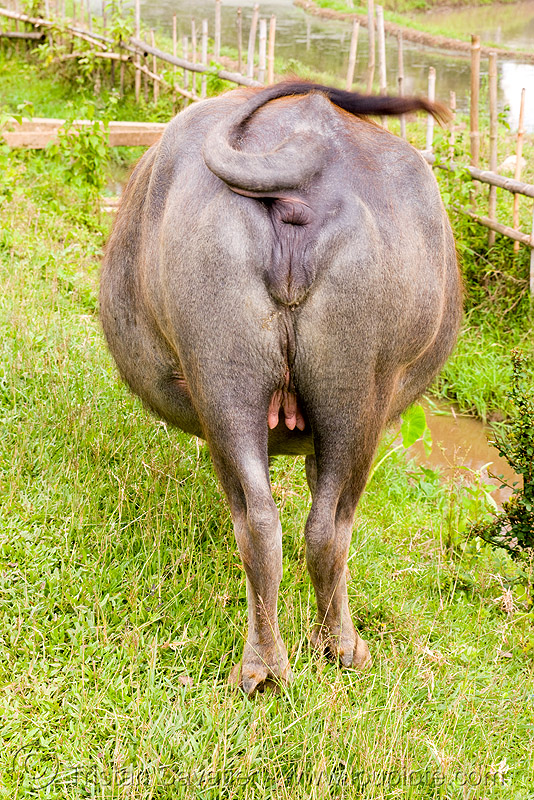buffalo: (95, 66, 473, 713)
